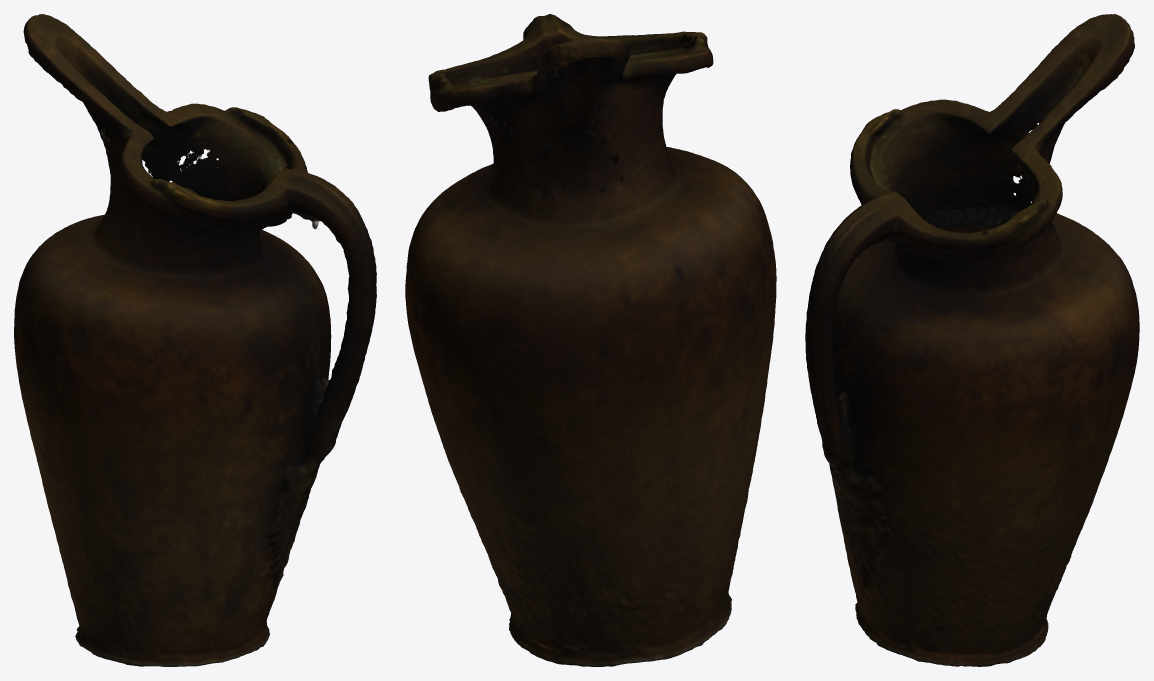
The model's file is obj_schnabelkanne_beak_spouted_f_a4d92d.glb.
3 renders of one model, left to right at view 1: azimuth 30°, elevation 25°; view 2: azimuth 150°, elevation 25°; view 3: azimuth 270°, elevation 25°, orthographic. The views are drawn at different scales.
Parts seen in each view (by area): view 1: obj_schnabelkanne_beak_spouted_f_a4d92d; view 2: obj_schnabelkanne_beak_spouted_f_a4d92d; view 3: obj_schnabelkanne_beak_spouted_f_a4d92d.
Boxes of the visible parts, x1=… form: obj_schnabelkanne_beak_spouted_f_a4d92d: x1=14, y1=14, x2=376, y2=666; obj_schnabelkanne_beak_spouted_f_a4d92d: x1=405, y1=14, x2=776, y2=666; obj_schnabelkanne_beak_spouted_f_a4d92d: x1=805, y1=14, x2=1139, y2=666.
Size of the model in its own units: 0.1237 by 0.25 by 0.1284.
1 material, 1 textured.
